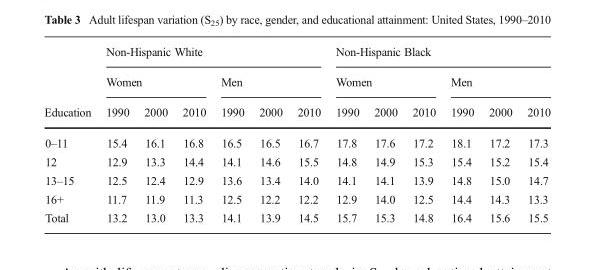table: (43, 44, 550, 223)
table column: (43, 44, 97, 223), (97, 44, 136, 223), (212, 44, 251, 223), (365, 44, 404, 223), (480, 44, 519, 223), (136, 44, 174, 223), (174, 44, 212, 223), (251, 44, 289, 223), (289, 44, 327, 223), (327, 44, 365, 223), (404, 44, 442, 223), (442, 44, 480, 223), (519, 44, 550, 223)
table column header: (43, 44, 550, 127)
table row: (43, 96, 550, 127), (43, 66, 550, 96), (43, 127, 550, 151), (43, 44, 550, 66), (43, 151, 550, 170), (43, 170, 550, 189), (43, 189, 550, 208), (43, 208, 550, 223)
table spanning cell: (97, 44, 327, 66), (327, 44, 550, 66), (43, 44, 97, 127), (97, 66, 212, 96), (212, 66, 327, 96), (327, 66, 442, 96), (442, 66, 550, 96)
